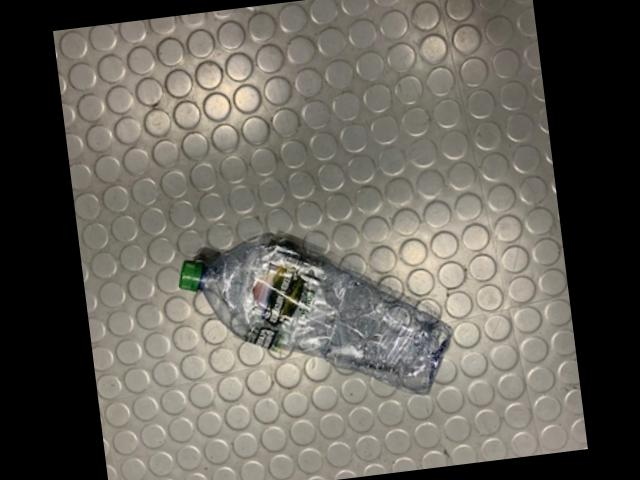plastic: (182, 235, 453, 395)
